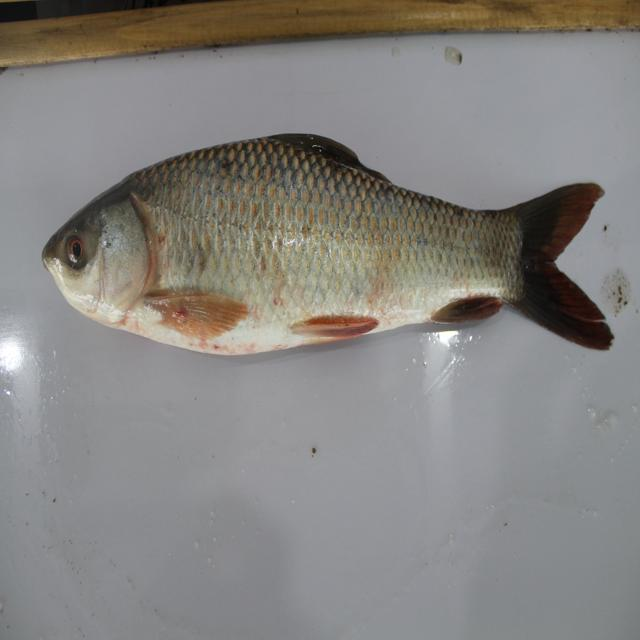Grass Carp: (40, 135, 617, 357)
